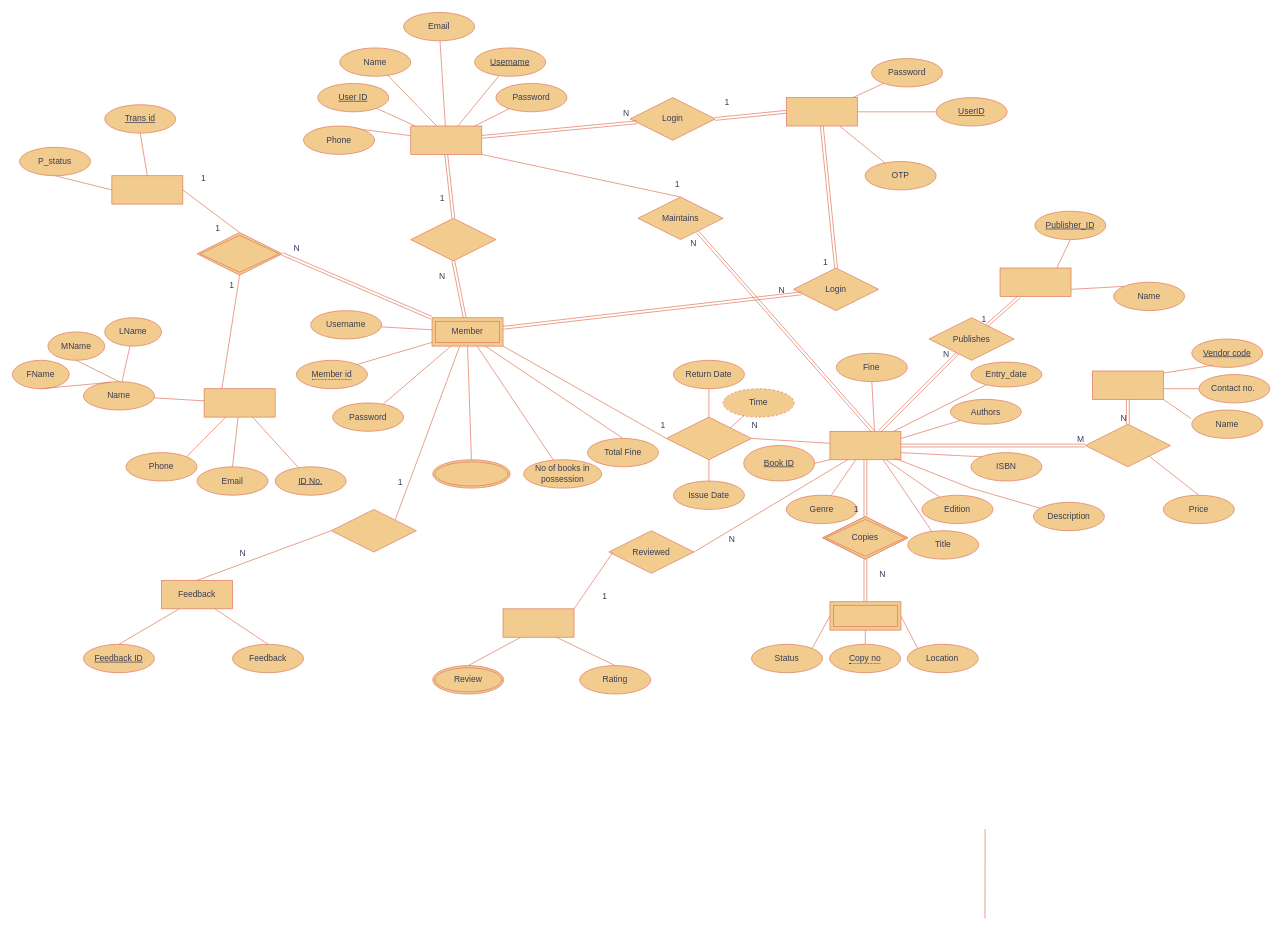
The diagram is 1282 pixels wide and 932 high, and some of its shapes have lost their labels. The centre of each missing label's shape, as x and y in pixels:
Admin: (446,139)
Authentication: (821,111)
Book: (865,445)
Book Copy: (865,615)
Book Review: (538,622)
Borrow/Return: (709,438)
Borrowed books: (471,473)
Gives Feedback: (373,530)
Keeps Track of: (453,239)
Payment: (147,189)
Publication: (1035,281)
Sales: (1127,445)
Sign up: (239,253)
Student: (239,402)
Vendor: (1127,384)
